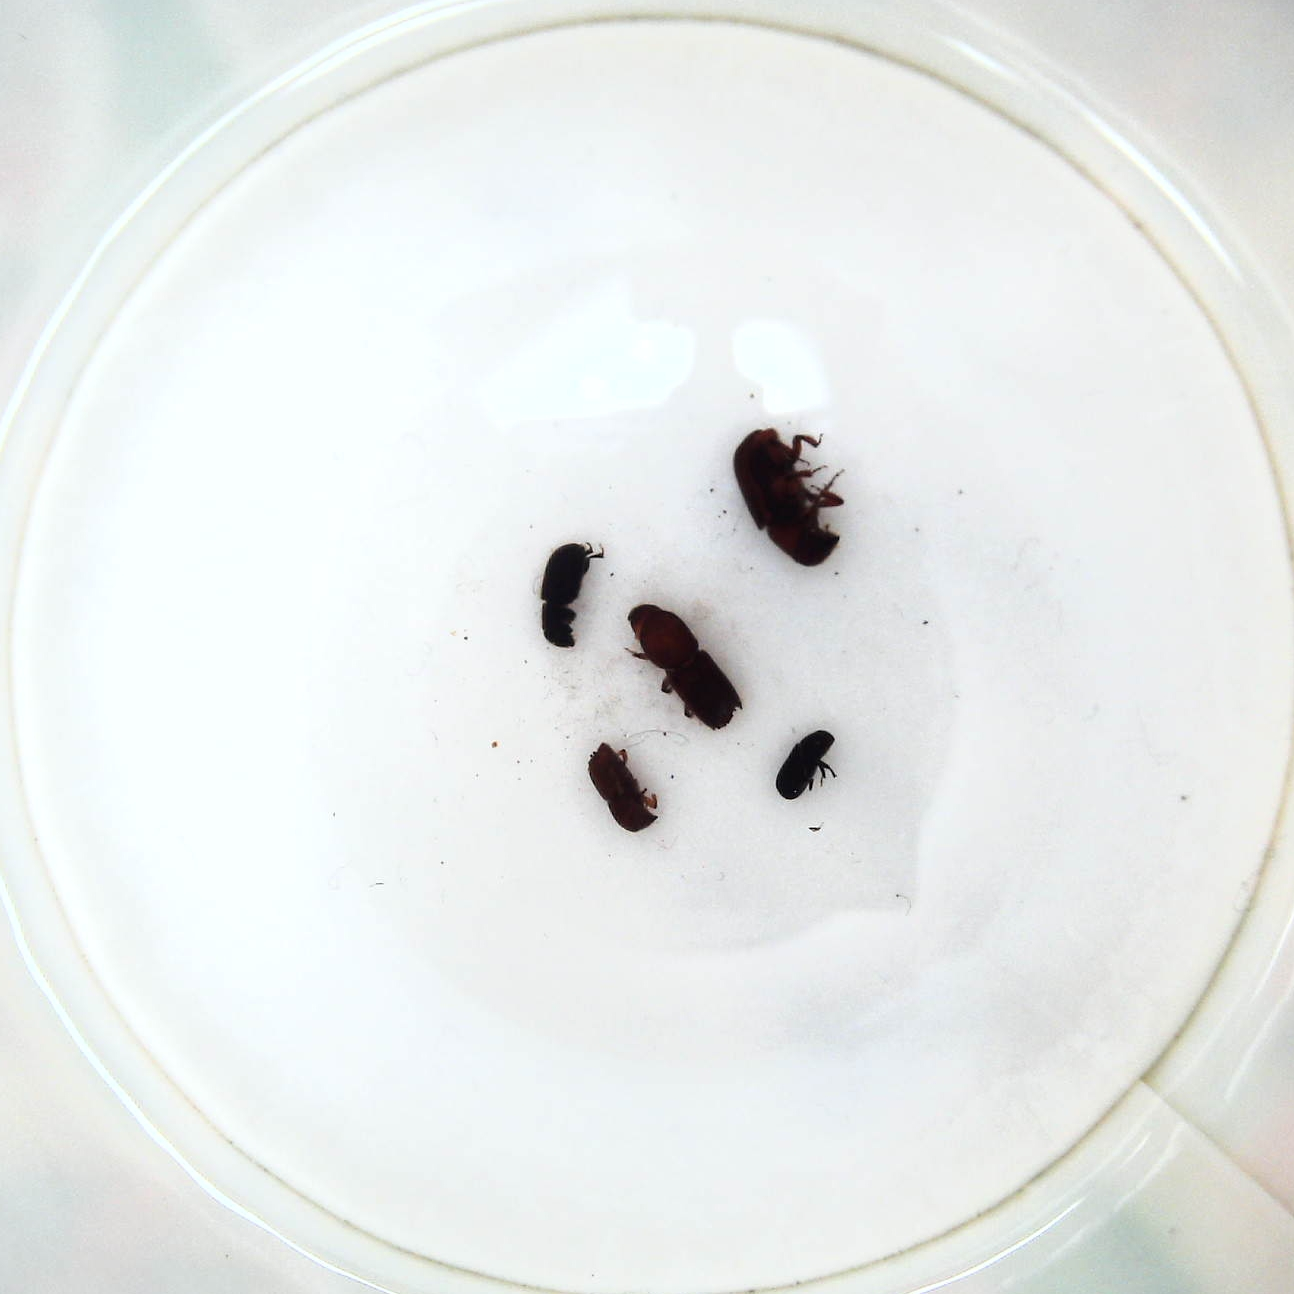Boerner: (622, 601, 744, 735)
Leconte: (732, 421, 844, 572)
armandi: (537, 540, 603, 648)
coleoptera: (771, 726, 839, 801)
linnaeus: (583, 739, 664, 838)
